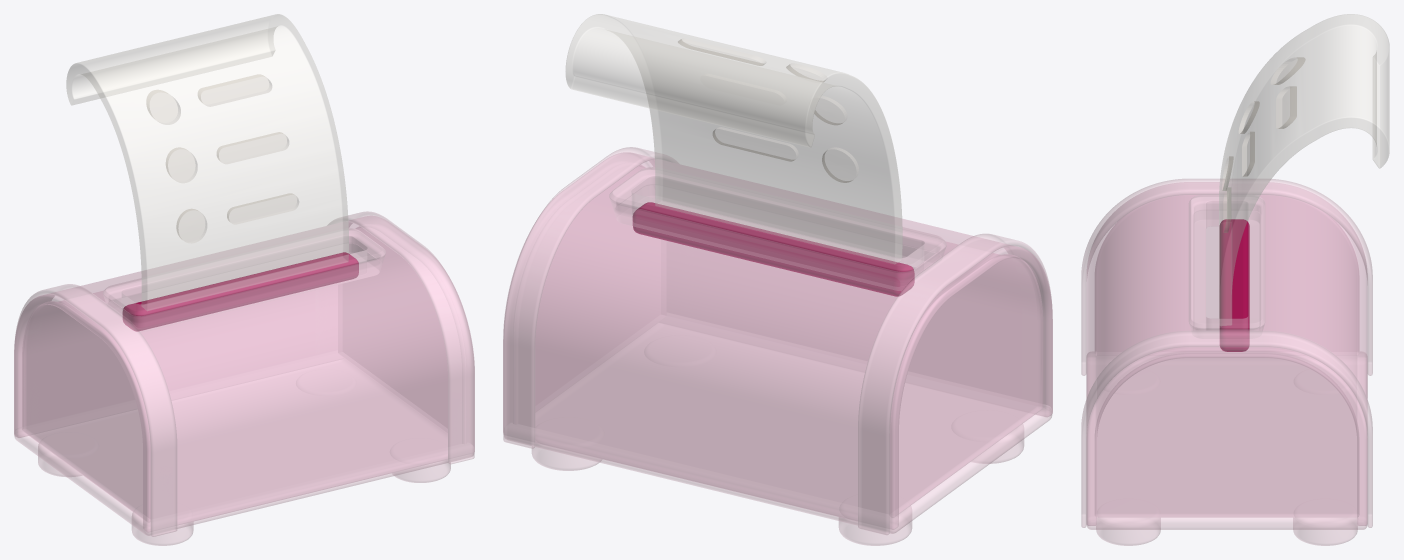
File: cloudwatch.glb
3 renders of one model, left to right at view 1: azimuth 30°, elevation 25°; view 2: azimuth 150°, elevation 25°; view 3: azimuth 270°, elevation 25°, orthographic. The views are drawn at different scales.
Visible parts, largest first — view 1: Ticker housing, Curled log strip, Glass bottom plate, Left glass cheek, Right glass cheek, Feed slot, Left raised rim, Right raised rim, Feed roller, Round glass foot, Round glass foot.002, Round glass foot.001; view 2: Ticker housing, Glass bottom plate, Curled log strip, Left glass cheek, Right glass cheek, Feed slot, Left raised rim, Right raised rim, Feed roller, Round glass foot.001, Round glass foot.003, Round glass foot; view 3: Ticker housing, Glass bottom plate, Right glass cheek, Left glass cheek, Curled log strip, Right raised rim, Left raised rim, Feed slot, Feed roller, Round glass foot.002, Round glass foot.003.
Boxes of the visible parts, x1=… form: Ticker housing: x1=14, y1=216, x2=474, y2=532; Curled log strip: x1=66, y1=14, x2=348, y2=310; Glass bottom plate: x1=14, y1=358, x2=473, y2=535; Left glass cheek: x1=22, y1=301, x2=150, y2=521; Right glass cheek: x1=342, y1=226, x2=447, y2=428; Feed slot: x1=103, y1=228, x2=385, y2=331; Left raised rim: x1=14, y1=284, x2=176, y2=536; Right raised rim: x1=328, y1=211, x2=474, y2=463; Feed roller: x1=123, y1=252, x2=358, y2=331; Round glass foot: x1=132, y1=512, x2=193, y2=545; Round glass foot.002: x1=392, y1=460, x2=450, y2=482; Round glass foot.001: x1=38, y1=443, x2=81, y2=476; Ticker housing: x1=503, y1=152, x2=1052, y2=529; Glass bottom plate: x1=504, y1=322, x2=1051, y2=533; Curled log strip: x1=565, y1=14, x2=902, y2=263; Left glass cheek: x1=890, y1=254, x2=1042, y2=517; Right glass cheek: x1=535, y1=165, x2=660, y2=405; Feed slot: x1=609, y1=167, x2=946, y2=290; Left raised rim: x1=858, y1=234, x2=1052, y2=534; Right raised rim: x1=503, y1=147, x2=678, y2=448; Feed roller: x1=633, y1=202, x2=914, y2=296; Round glass foot.001: x1=839, y1=506, x2=911, y2=545; Round glass foot.003: x1=532, y1=443, x2=601, y2=470; Round glass foot: x1=971, y1=424, x2=1023, y2=463; Ticker housing: x1=1087, y1=182, x2=1367, y2=525; Glass bottom plate: x1=1086, y1=351, x2=1367, y2=529; Right glass cheek: x1=1095, y1=353, x2=1359, y2=517; Left glass cheek: x1=1095, y1=195, x2=1359, y2=355; Curled log strip: x1=1219, y1=14, x2=1389, y2=325; Right raised rim: x1=1081, y1=331, x2=1372, y2=527; Left raised rim: x1=1081, y1=179, x2=1372, y2=375; Feed slot: x1=1189, y1=195, x2=1264, y2=330; Feed roller: x1=1219, y1=219, x2=1249, y2=351; Round glass foot.002: x1=1096, y1=517, x2=1160, y2=545; Round glass foot.003: x1=1293, y1=517, x2=1357, y2=545.
Bounding box in the file's own units: 1.95 × 2.17 × 1.5.
